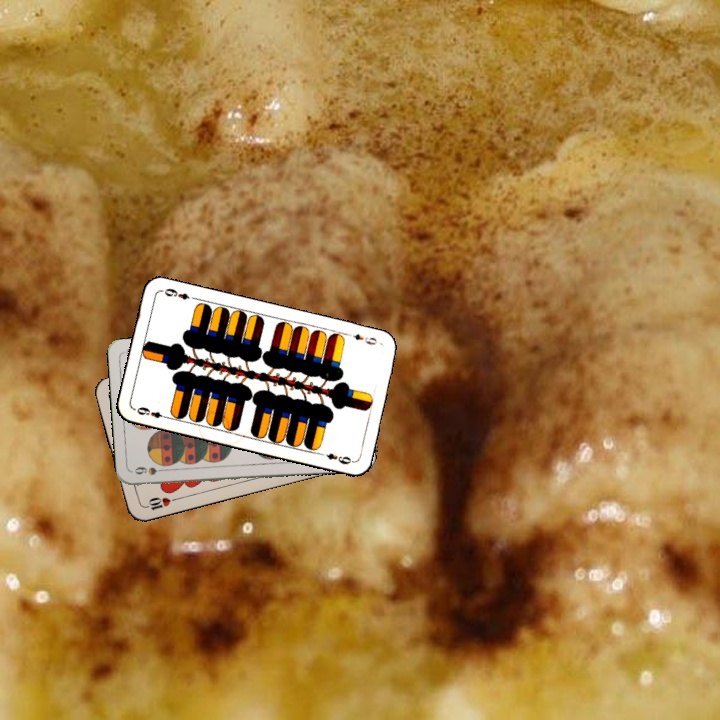E9: (133, 403, 171, 421), (349, 330, 380, 348)
H10: (140, 493, 180, 513)
S9: (130, 462, 171, 478)
